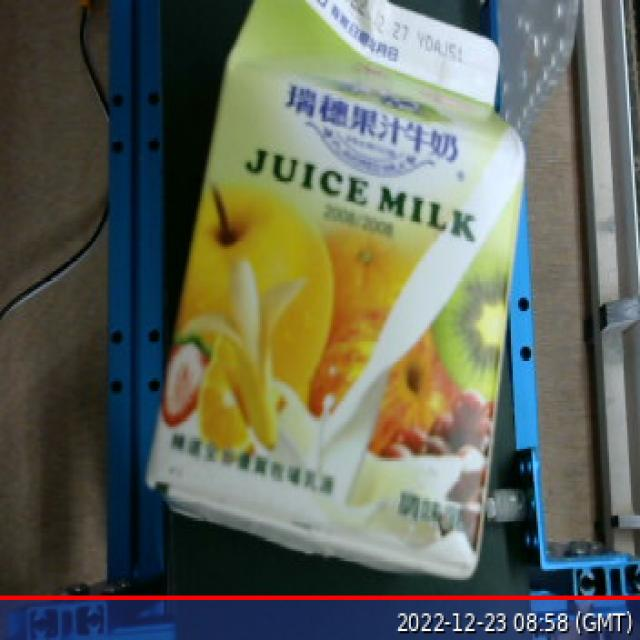non_white_jug: (123, 0, 532, 598)
